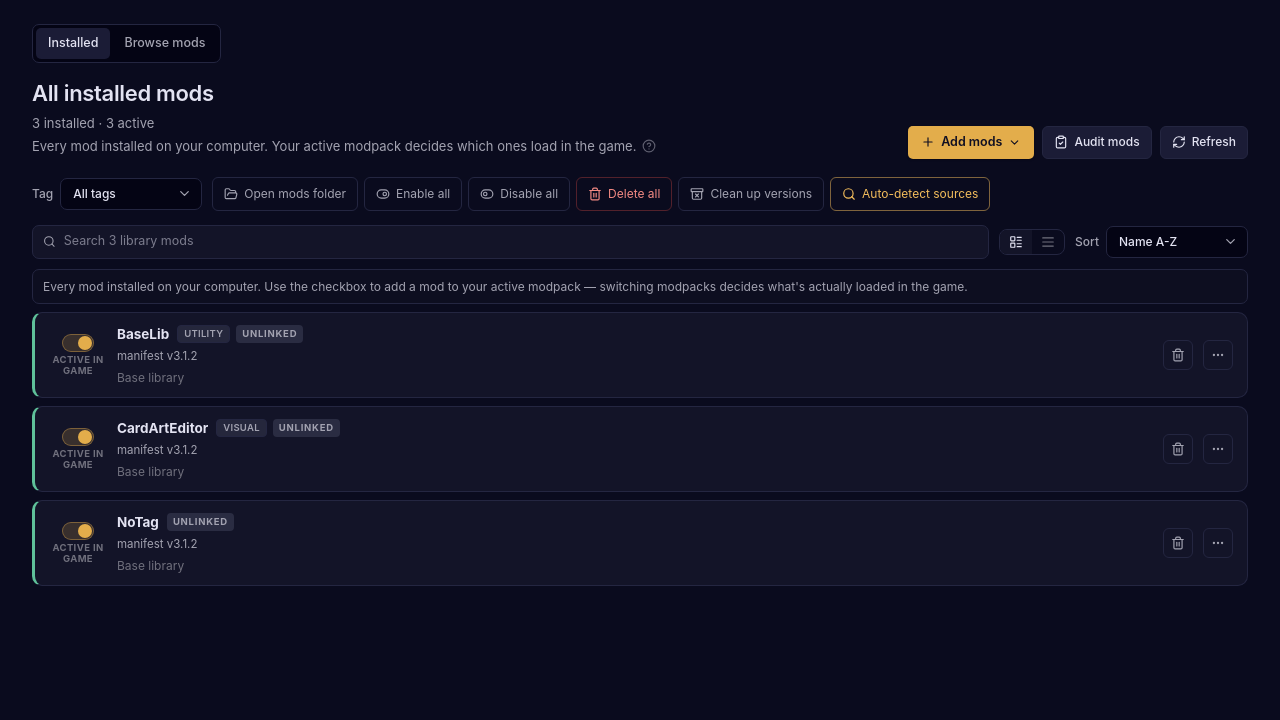
Test: <ModsView> › Tag picker has a No tags option that shows only untagged mods
Expected: the heading "BaseLib" is shown, [117, 324, 169, 344]
Click the dropdown labelled "All tags" at (131, 194), box [60, 178, 202, 210]
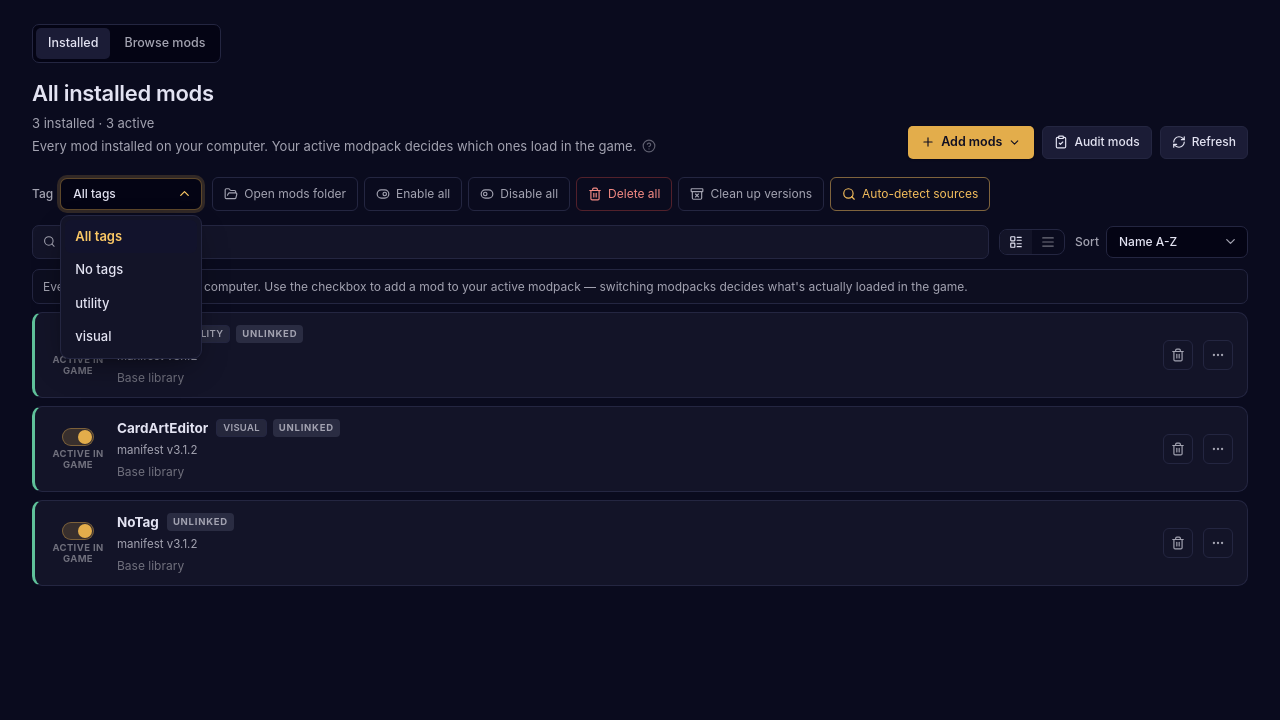
Click the option "No tags" at (99, 269), box [75, 261, 123, 277]
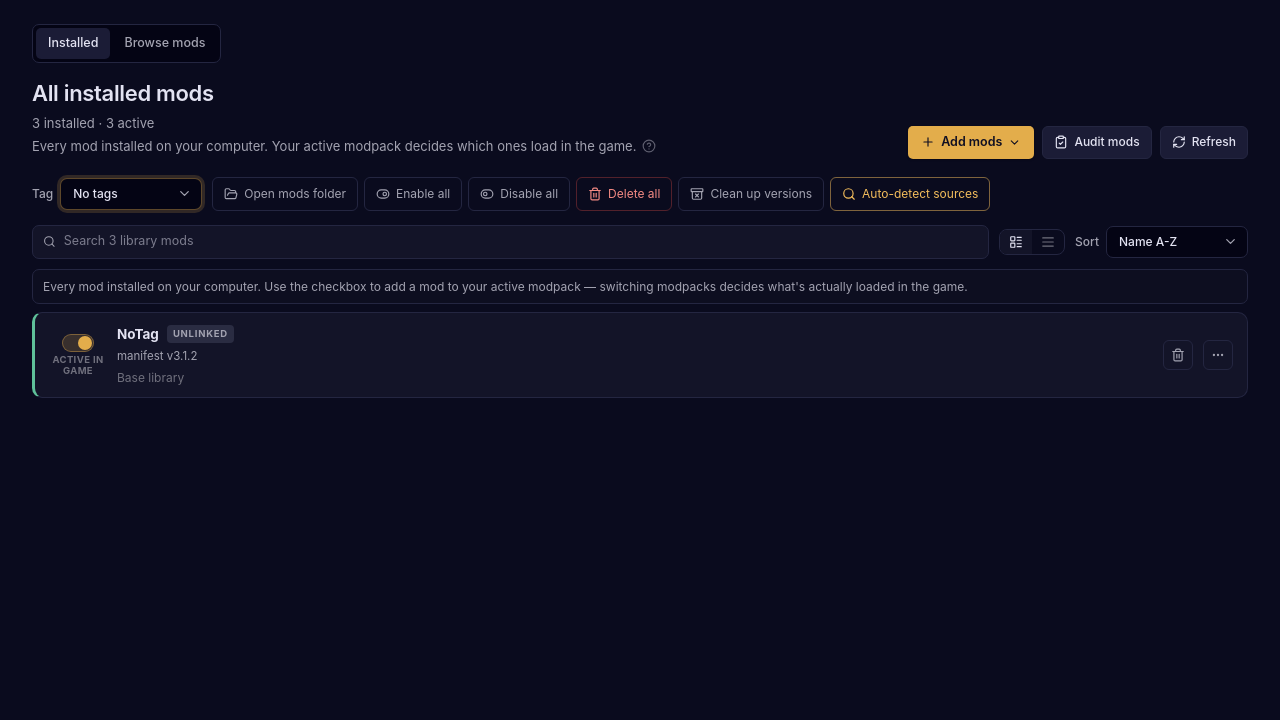
Expected: the heading "NoTag" is shown, [117, 324, 159, 344]
Expected: the button "BaseLib" is gone
Expected: the button "CardArtEditor" is gone
